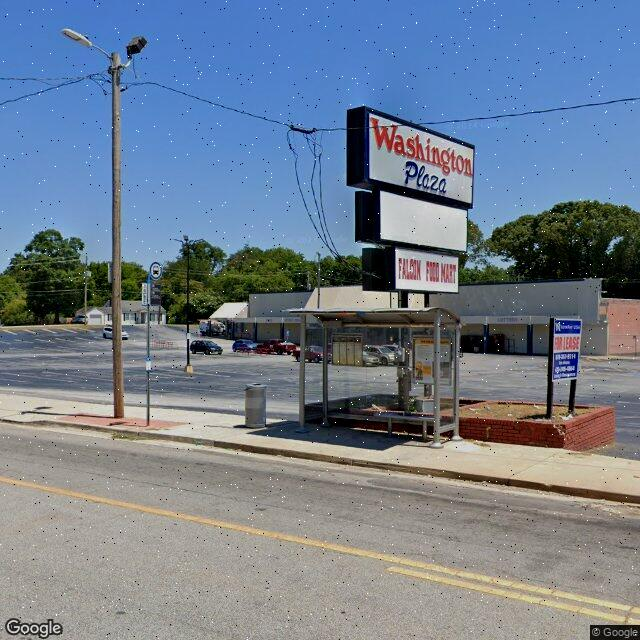seating: (374, 411, 434, 439)
shelter: (282, 305, 462, 448)
trash_can: (244, 382, 268, 428)
